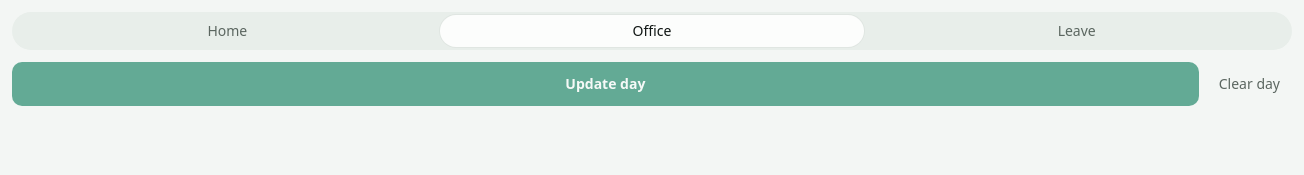
Test case: DayEditor › button and late notice › shows the late notice when a past Office day is switched to Leave
Click the button "Leave". click: (1077, 31)
box: top-left (864, 15), bottom-right (1289, 47)
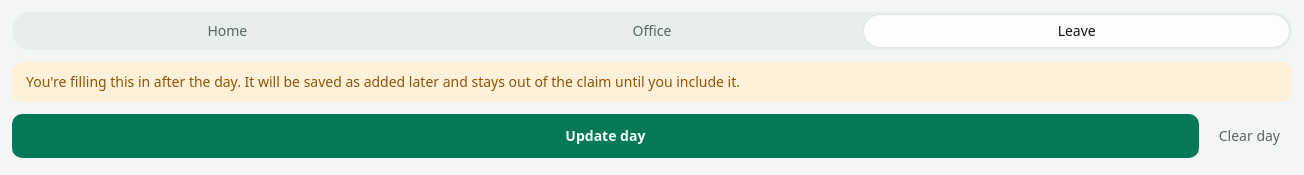
Check: the text "You're filling this in after the day. It will be saved as added later and stays out of the claim until you include it." is shown, box top-left (26, 72), bottom-right (740, 91)
